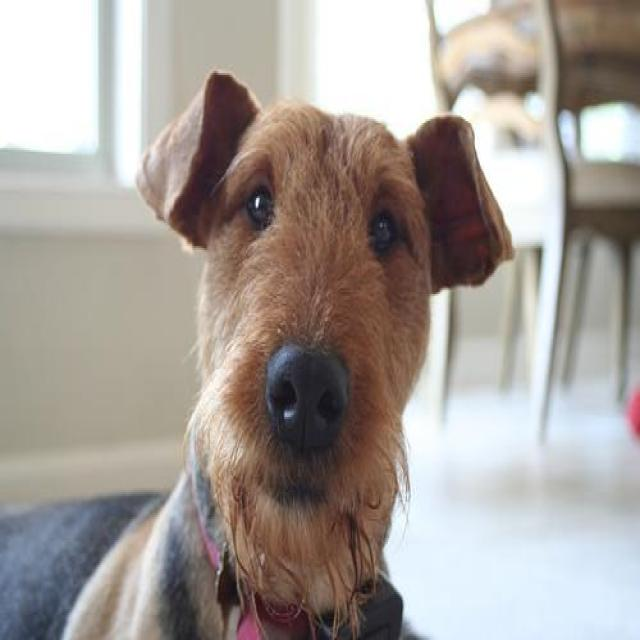airedale: (0, 69, 513, 638)
